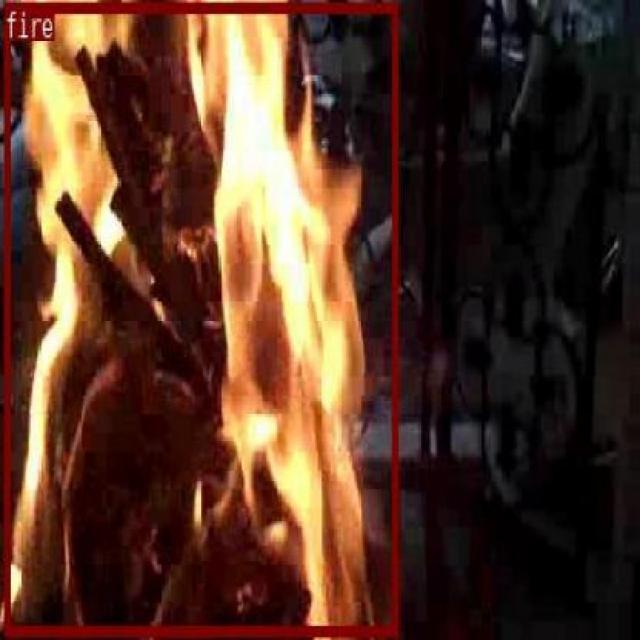Fire: (3, 1, 397, 634)
